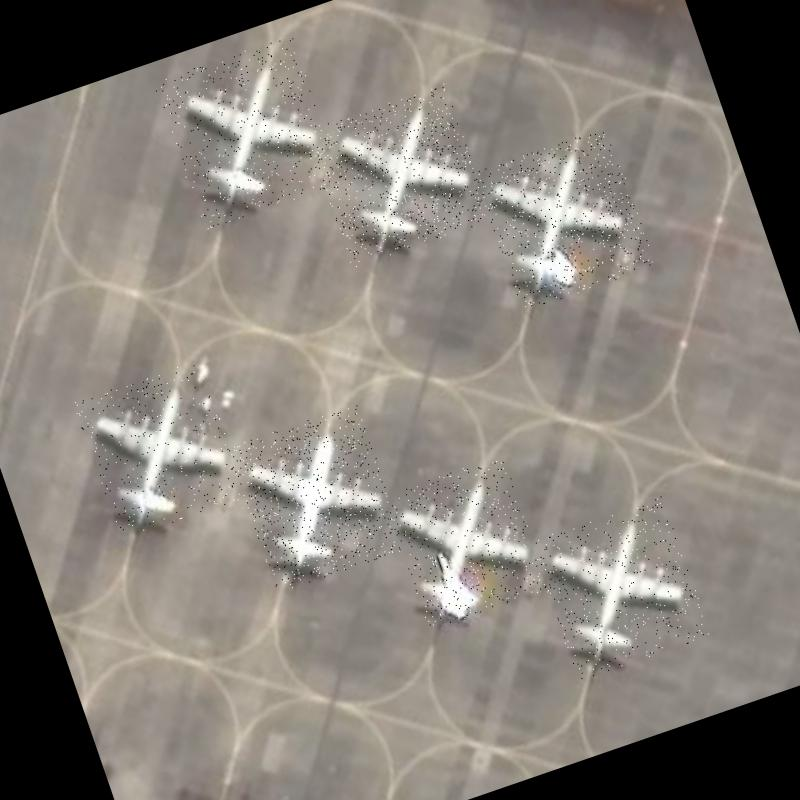A9: (153, 34, 343, 230), (306, 82, 494, 268), (227, 403, 408, 594), (474, 126, 656, 312), (530, 496, 712, 682), (73, 359, 247, 541), (383, 454, 550, 631)
